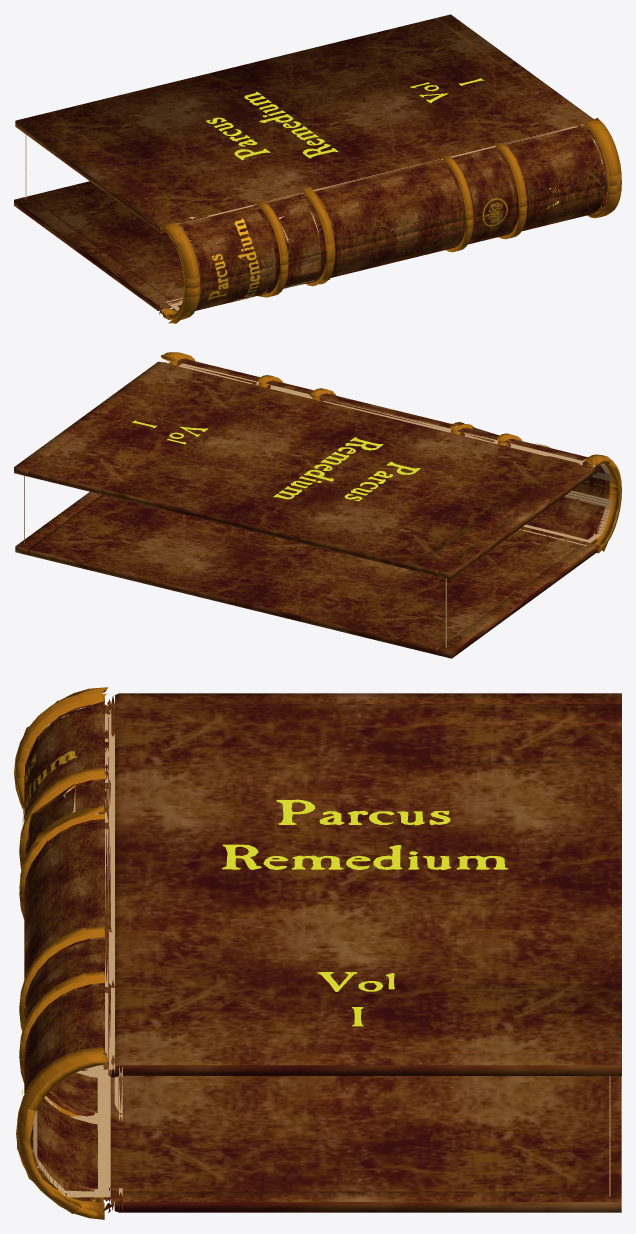
File: obj_old_book_2.glb
The picture shows the model from 3 angles, top to bottom: view 1: azimuth 30°, elevation 25°; view 2: azimuth 150°, elevation 25°; view 3: azimuth 270°, elevation 25°; orthographic projection. The views are drawn at different scales.
Visible parts, largest first — view 1: 000-Front-Cover-shabby-chic-border-q75-2560x1600.001; view 2: 000-Front-Cover-shabby-chic-border-q75-2560x1600.001; view 3: 000-Front-Cover-shabby-chic-border-q75-2560x1600.001.
Boxes of the visible parts, box(x1,y1,x2,y2) form: 000-Front-Cover-shabby-chic-border-q75-2560x1600.001: box(14, 14, 621, 323); 000-Front-Cover-shabby-chic-border-q75-2560x1600.001: box(14, 352, 621, 658); 000-Front-Cover-shabby-chic-border-q75-2560x1600.001: box(14, 687, 621, 1219).
Size of the model in its own units: 0.2824 by 0.0589 by 0.1928.
Materials: 7 (5 with a texture image).
